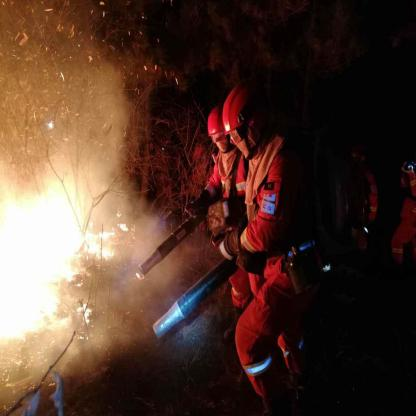fire: (1, 180, 121, 342)
other: (192, 87, 308, 400)
